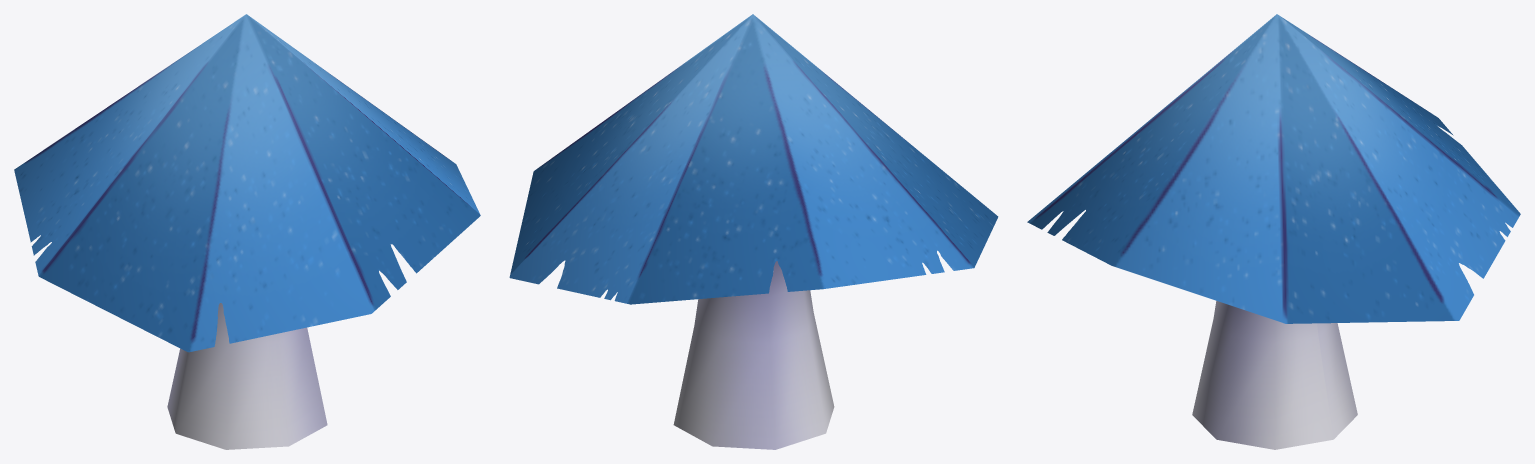
3 renders of one model, left to right at view 1: azimuth 30°, elevation 25°; view 2: azimuth 150°, elevation 25°; view 3: azimuth 270°, elevation 25°, orthographic.
Parts seen in each view (by area): view 1: Object001; view 2: Object001; view 3: Object001.
Boxes of the visible parts, x1=… form: Object001: x1=14, y1=14, x2=480, y2=449; Object001: x1=509, y1=14, x2=998, y2=449; Object001: x1=1027, y1=14, x2=1520, y2=449.
Bounding box in the file's own units: 138 × 123 × 138.
Materials: 1 (1 with a texture image).
